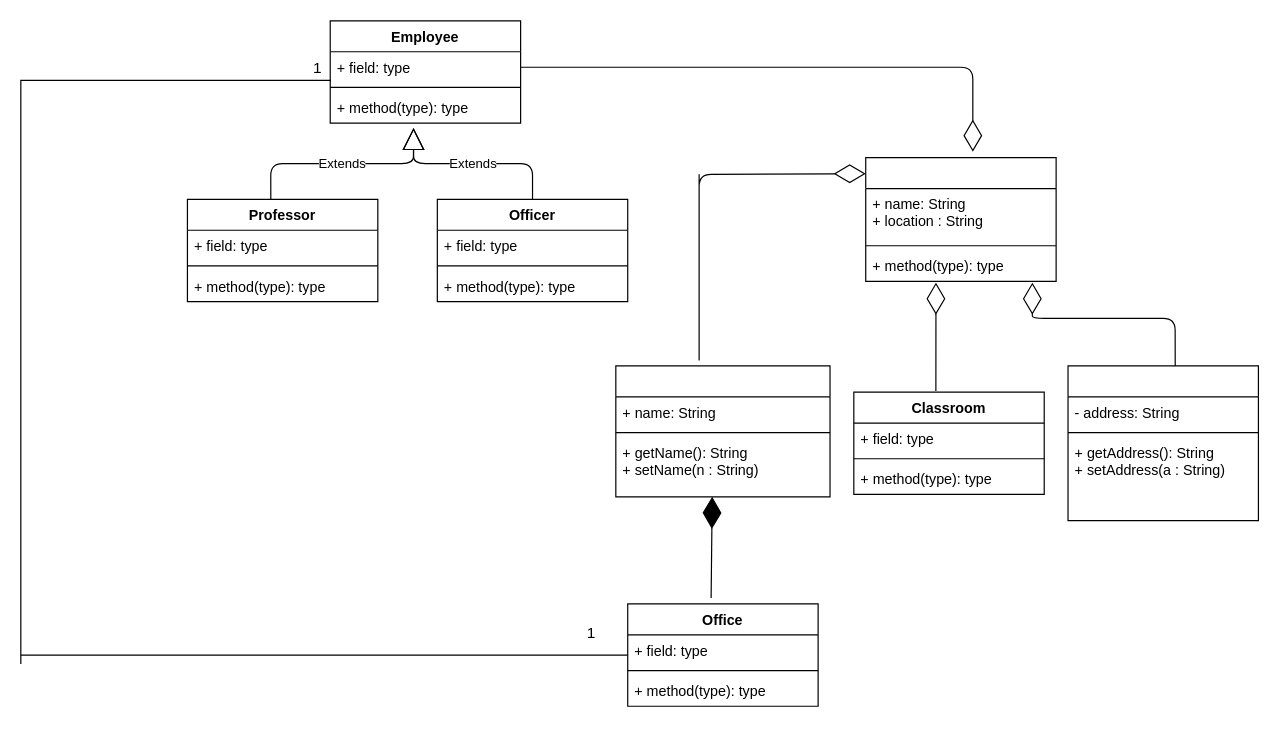
Image size: 1279x731. Some labels were removed from this diagram. The box of each missing label's shape, as (x1, y1, x2, y2) in pixels:
Departmant: (615, 365, 830, 497)
University: (865, 156, 1056, 281)
WorkOffice: (1067, 365, 1258, 521)
